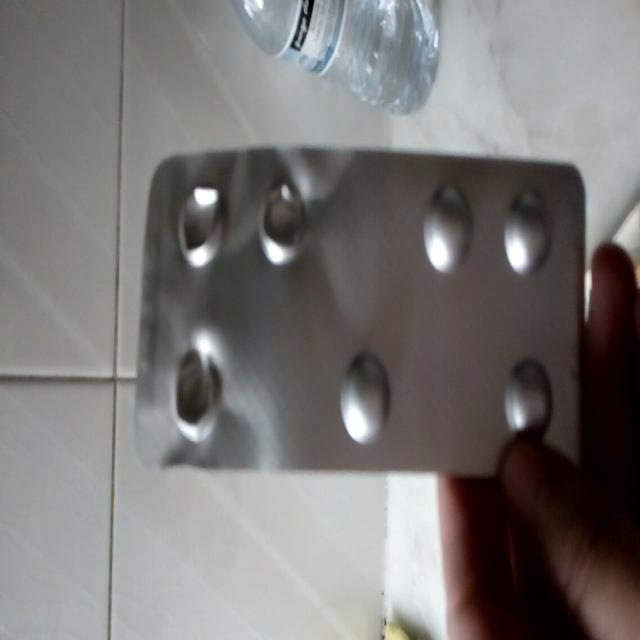Empty: (160, 338, 230, 448), (253, 164, 316, 286), (164, 166, 232, 276)
Pill: (413, 168, 477, 284), (332, 344, 397, 458), (498, 174, 556, 290), (496, 354, 570, 444)
